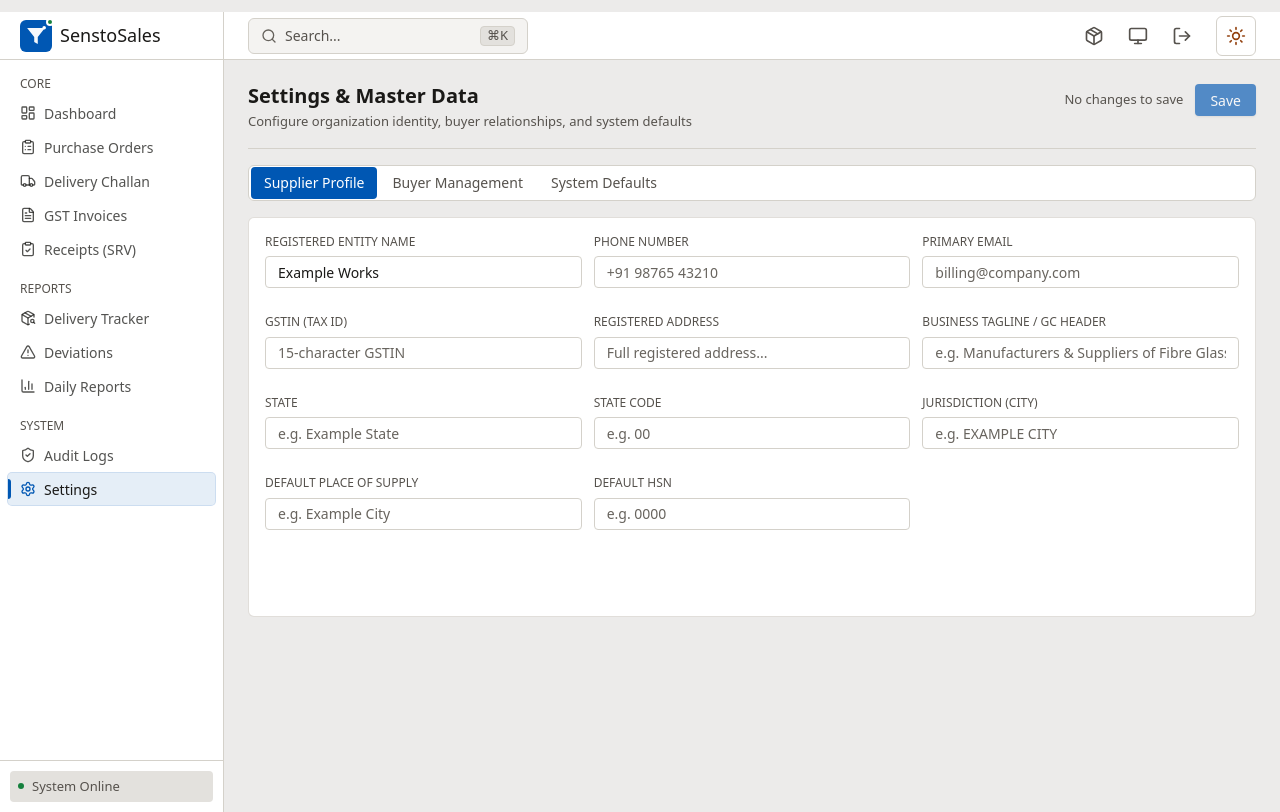
settings save (SPEC-15 PR 3, INV-72) › saves only the changed part, through Save, then is clean again
This screenshot has width=1280, height=812.
Type " Ltd" into the field labelled "Registered Entity Name" at (423, 272), box [265,256,582,288]
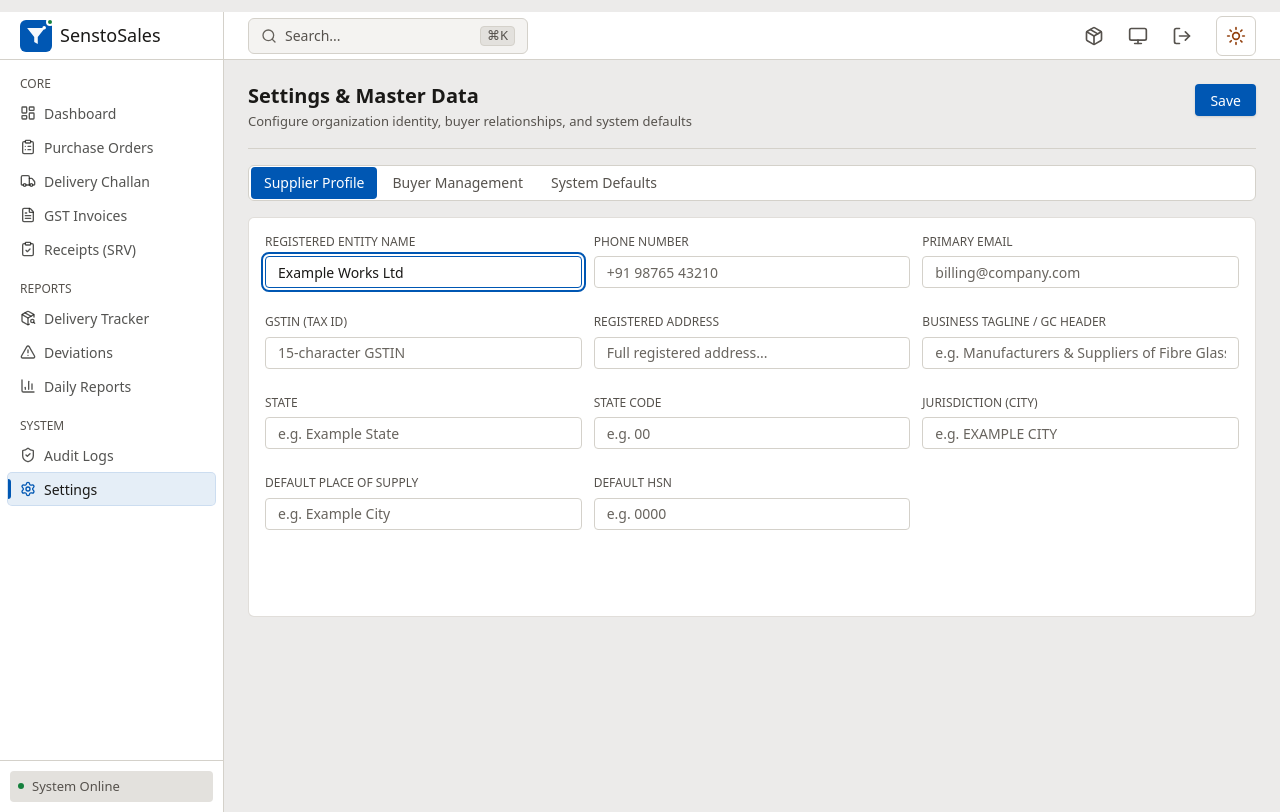
Click the button "Save" at (1226, 100), box [1195,84,1256,116]
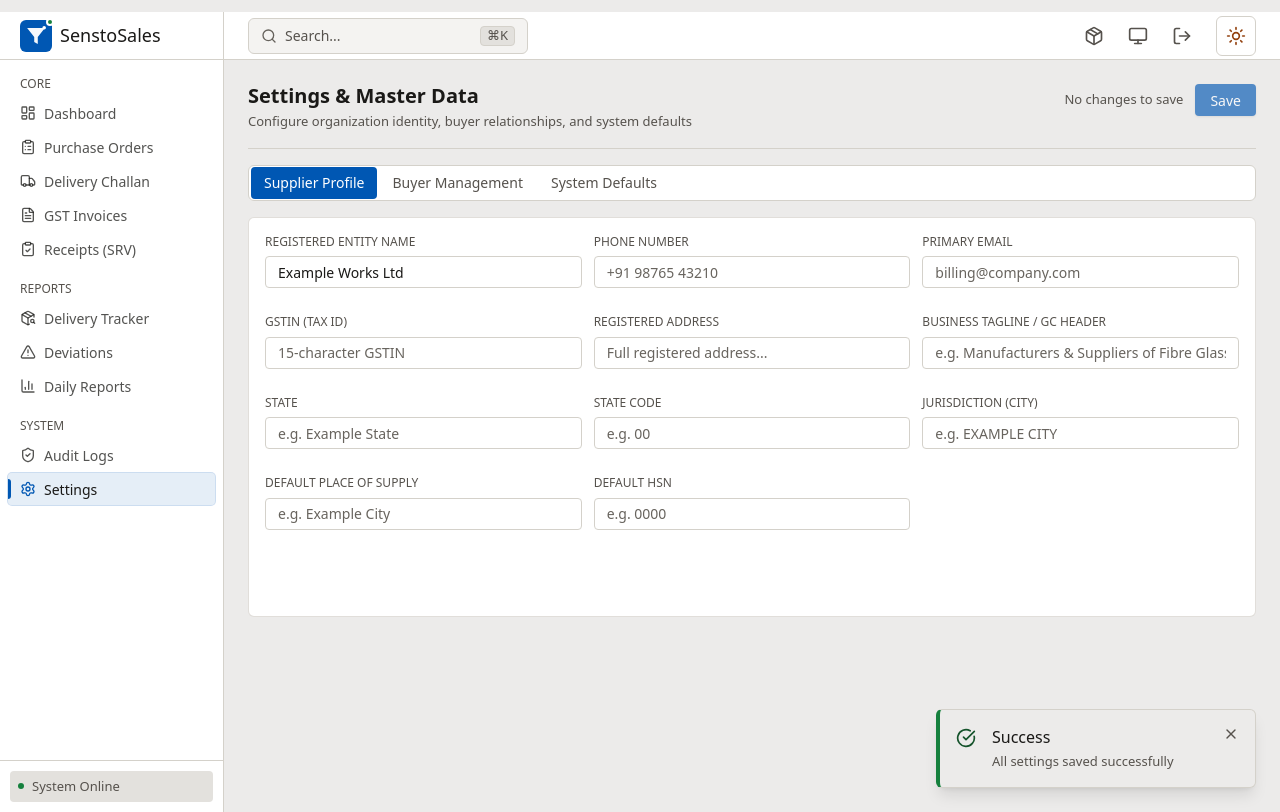
expect the text with id "save-reason" reads "No changes to save": met, box [1064,90,1184,108]
